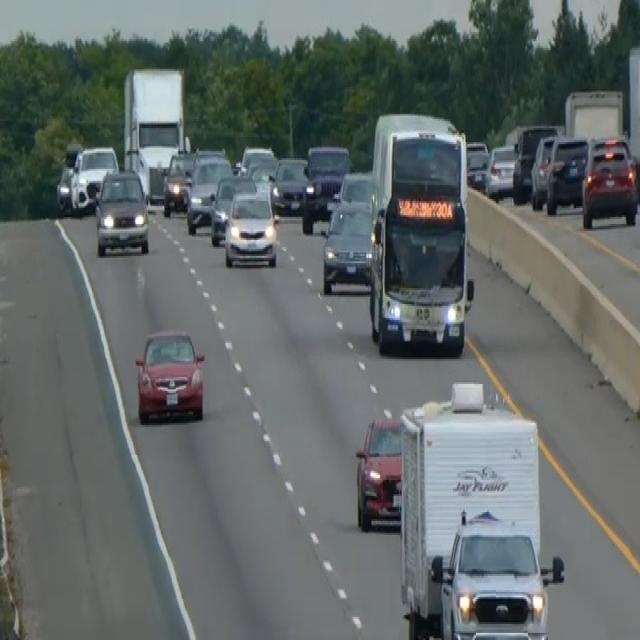bus: (366, 109, 475, 358)
car: (134, 325, 206, 425), (354, 412, 403, 532), (580, 134, 638, 228), (93, 165, 150, 256), (321, 198, 373, 294), (300, 142, 351, 233), (223, 188, 277, 268), (185, 151, 232, 233), (545, 132, 589, 214), (209, 171, 256, 245), (70, 144, 119, 213), (271, 155, 308, 215), (162, 148, 195, 215), (529, 132, 558, 208), (484, 142, 517, 199), (338, 169, 373, 206), (249, 155, 278, 197), (465, 138, 488, 188), (239, 142, 273, 172), (55, 160, 73, 213)
lorry: (121, 64, 188, 201)
truck: (396, 379, 564, 638)
